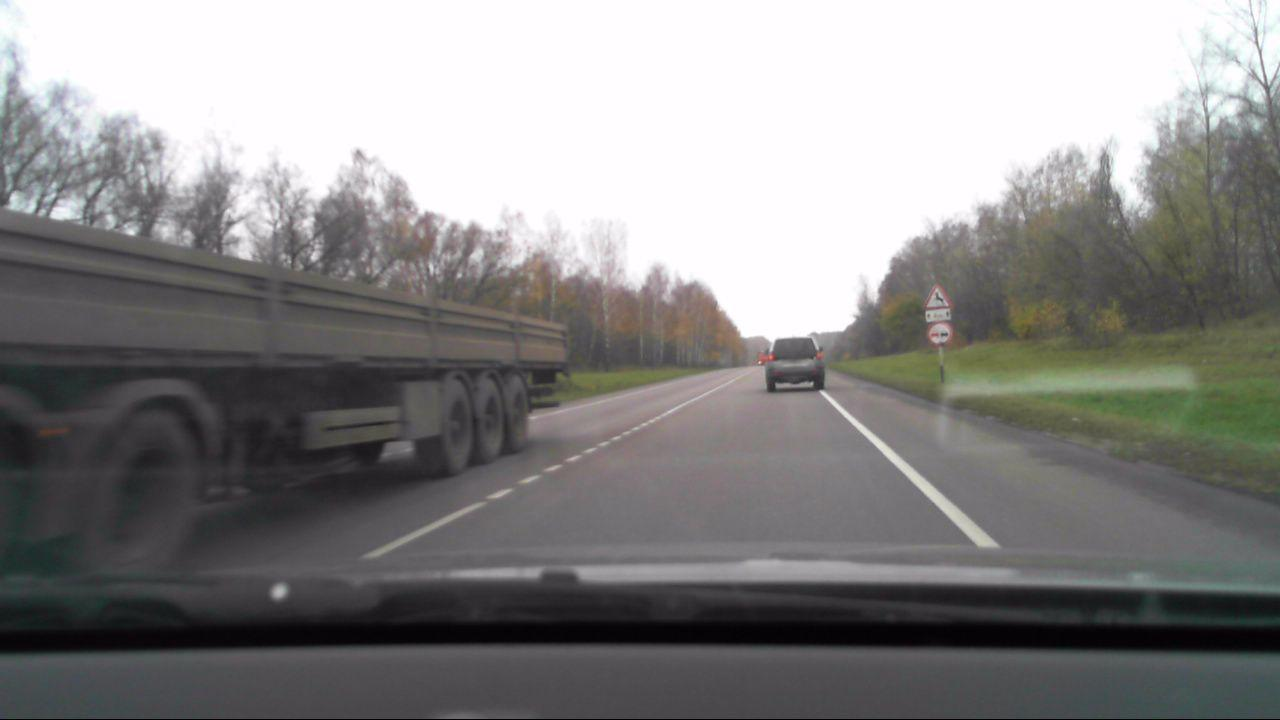1_27: (924, 284, 948, 309)
3_20: (928, 323, 953, 344)
8_2_1: (924, 308, 953, 321)
